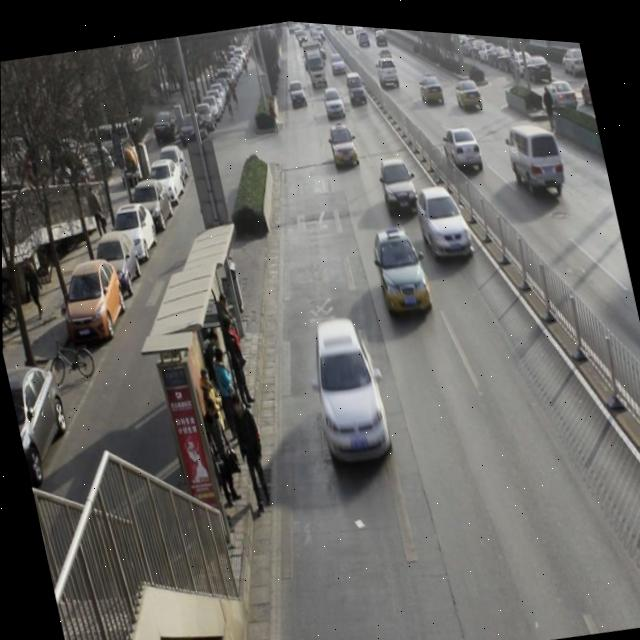bus: (303, 38, 329, 84)
car: (303, 304, 398, 465), (365, 215, 434, 317), (412, 177, 478, 260), (373, 143, 421, 214), (439, 111, 485, 170), (327, 115, 360, 164), (417, 62, 447, 104), (451, 66, 483, 104), (343, 64, 371, 105), (285, 73, 311, 110), (374, 50, 401, 84), (322, 78, 346, 115), (327, 43, 347, 70)
truck: (503, 108, 570, 198)
